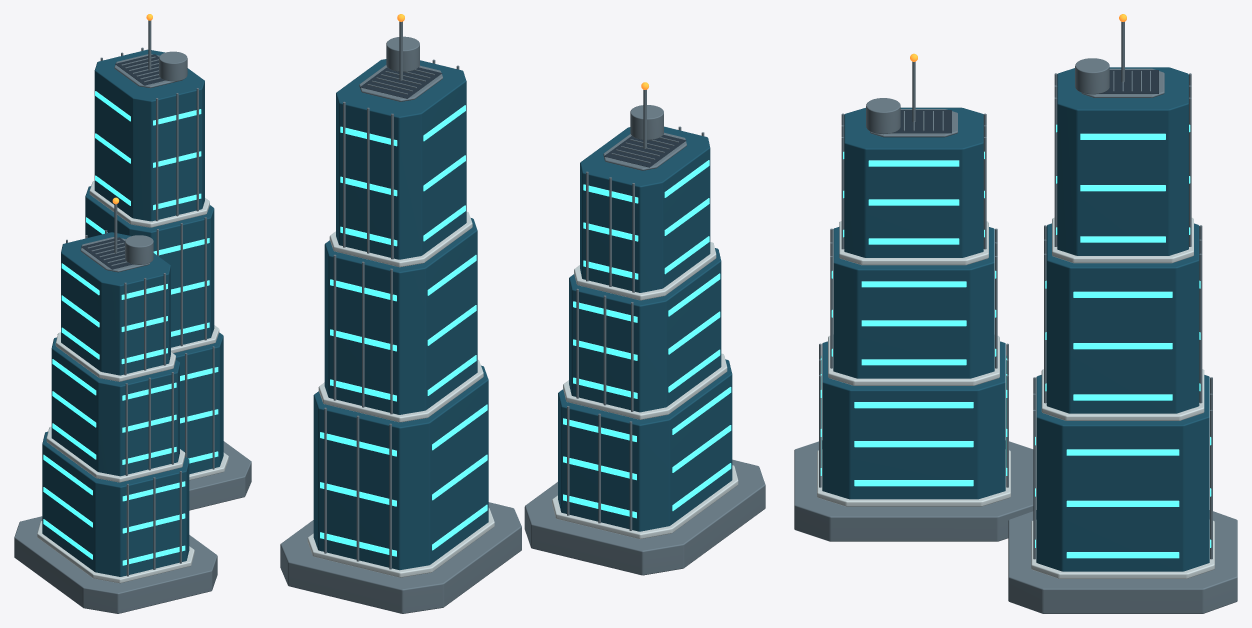
Rendered from StormCity.fbx.
The picture shows the model from 3 angles, left to right: view 1: azimuth 30°, elevation 25°; view 2: azimuth 150°, elevation 25°; view 3: azimuth 270°, elevation 25°; orthographic projection. The views are drawn at different scales.
Visible parts, largest first — view 1: Setback glass facade.017, Setback glass facade.012, Setback glass facade.013, Setback glass facade.014, Chamfered tower plinth.004, Setback glass facade.016, Setback glass facade.015, Chamfered tower plinth.005, Terrace slab.012, Terrace slab.013, Terrace slab.014, Terrace slab.017 (+16 smaller); view 2: Setback glass facade.015, Setback glass facade.016, Setback glass facade.017, Setback glass facade.012, Setback glass facade.013, Setback glass facade.014, Chamfered tower plinth.004, Chamfered tower plinth.005, Terrace slab.012, Terrace slab.015, Terrace slab.013, Terrace slab.016 (+6 smaller); view 3: Setback glass facade.015, Setback glass facade.016, Setback glass facade.017, Setback glass facade.012, Setback glass facade.013, Setback glass facade.014, Chamfered tower plinth.005, Chamfered tower plinth.004, Terrace slab.012, Terrace slab.015, Terrace slab.013, Terrace slab.016 (+24 smaller).
Part boxes in pixels (<box>): Setback glass facade.017: <box>94,49,204,221</box>; Setback glass facade.012: <box>42,431,189,576</box>; Setback glass facade.013: <box>51,337,179,476</box>; Setback glass facade.014: <box>61,232,170,375</box>; Chamfered tower plinth.004: <box>14,516,217,613</box>; Setback glass facade.016: <box>85,186,214,347</box>; Setback glass facade.015: <box>173,332,223,474</box>; Chamfered tower plinth.005: <box>189,441,251,510</box>; Terrace slab.012: <box>37,521,194,583</box>; Terrace slab.013: <box>46,426,185,482</box>; Terrace slab.014: <box>55,332,175,381</box>; Terrace slab.017: <box>89,181,209,227</box>; Setback glass facade.015: <box>313,365,488,570</box>; Setback glass facade.016: <box>324,218,477,414</box>; Setback glass facade.017: <box>336,59,466,259</box>; Setback glass facade.012: <box>558,359,732,531</box>; Setback glass facade.013: <box>569,248,721,412</box>; Setback glass facade.014: <box>580,126,710,292</box>; Chamfered tower plinth.004: <box>524,459,765,575</box>; Chamfered tower plinth.005: <box>280,502,521,613</box>; Terrace slab.012: <box>552,465,738,539</box>; Terrace slab.015: <box>307,508,494,577</box>; Terrace slab.013: <box>563,353,727,419</box>; Terrace slab.016: <box>318,360,483,422</box>; Setback glass facade.015: <box>1036,375,1209,571</box>; Setback glass facade.016: <box>1046,223,1199,413</box>; Setback glass facade.017: <box>1057,67,1188,255</box>; Setback glass facade.012: <box>822,341,1005,499</box>; Setback glass facade.013: <box>833,227,994,378</box>; Setback glass facade.014: <box>844,107,983,257</box>; Chamfered tower plinth.005: <box>1008,510,1237,613</box>; Chamfered tower plinth.004: <box>794,440,1033,541</box>; Terrace slab.012: <box>817,449,1010,506</box>; Terrace slab.015: <box>1031,519,1214,578</box>; Terrace slab.013: <box>828,335,999,385</box>; Terrace slab.016: <box>1041,369,1204,420</box>.
Size of the model in its own units: 705 by 1210 by 870.
